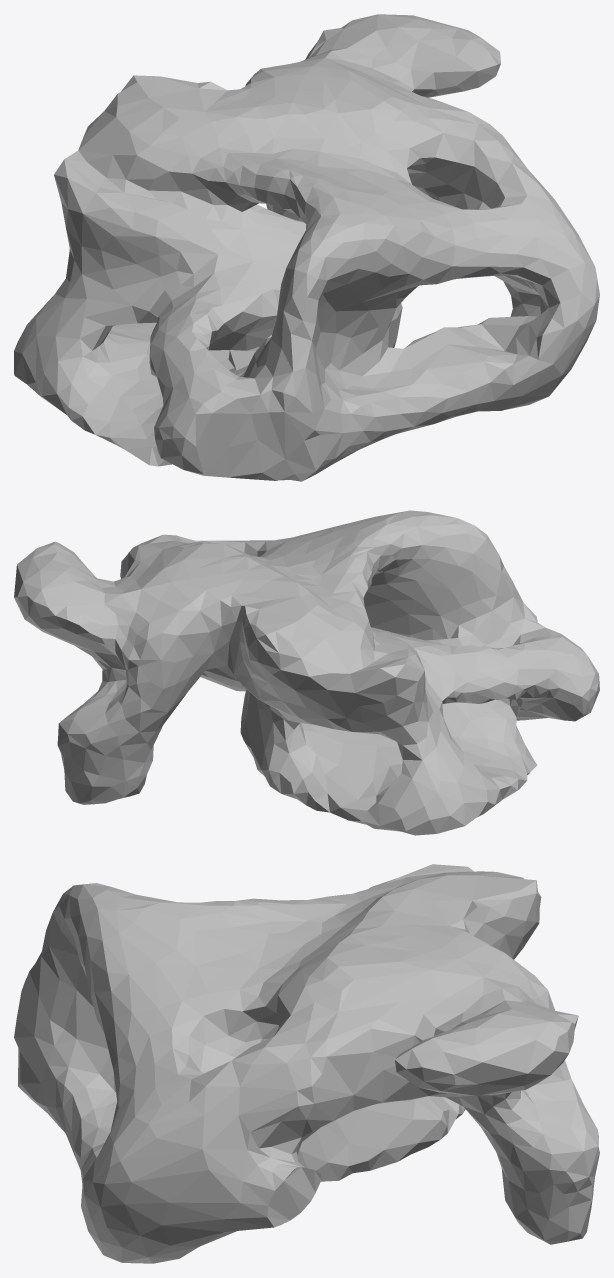
File: Rock-6.glb
3 views of the same model, one above another, from view 1: azimuth 30°, elevation 25°; view 2: azimuth 150°, elevation 25°; view 3: azimuth 270°, elevation 25° (orthographic). The views are drawn at different scales.
Parts seen in each view (by area): view 1: Rock_049; view 2: Rock_049; view 3: Rock_049.
Boxes of the visible parts, left/top/right/bottom form: Rock_049: left=14, top=14, right=599, bottom=481; Rock_049: left=14, top=510, right=599, bottom=835; Rock_049: left=14, top=864, right=599, bottom=1263.
Bounding box in the file's own units: 10.74 × 5.14 × 10.
1 material, 1 textured.
